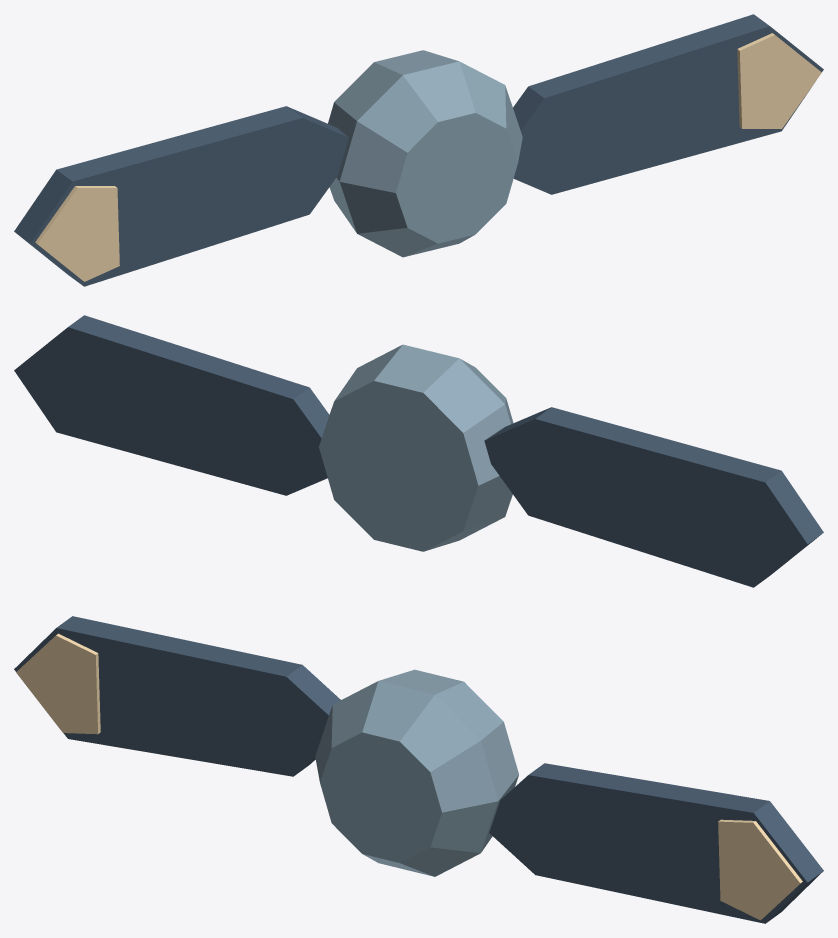
The model's file is propeller.obj.
3 renders of one model, top to bottom at view 1: azimuth 30°, elevation 25°; view 2: azimuth 150°, elevation 25°; view 3: azimuth 330°, elevation 25°, orthographic.
Visible parts, largest first — view 1: spinner, blade_-1, blade_1, tip_-1, tip_1; view 2: blade_-1, blade_1, spinner; view 3: spinner, blade_1, blade_-1, tip_-1, tip_1.
Boxes of the visible parts, x1,y1,x2,y2 form: spinner: [328, 50, 522, 257]; blade_-1: [14, 106, 348, 286]; blade_1: [513, 14, 823, 194]; tip_-1: [35, 186, 119, 281]; tip_1: [737, 33, 821, 128]; blade_-1: [484, 407, 823, 587]; blade_1: [14, 315, 329, 495]; spinner: [319, 344, 513, 551]; spinner: [315, 669, 518, 876]; blade_1: [489, 763, 823, 923]; blade_-1: [14, 616, 340, 776]; tip_-1: [16, 633, 100, 734]; tip_1: [718, 819, 802, 920].
Bounding box in the file's own units: 0.338 × 0.0742 × 0.043.
